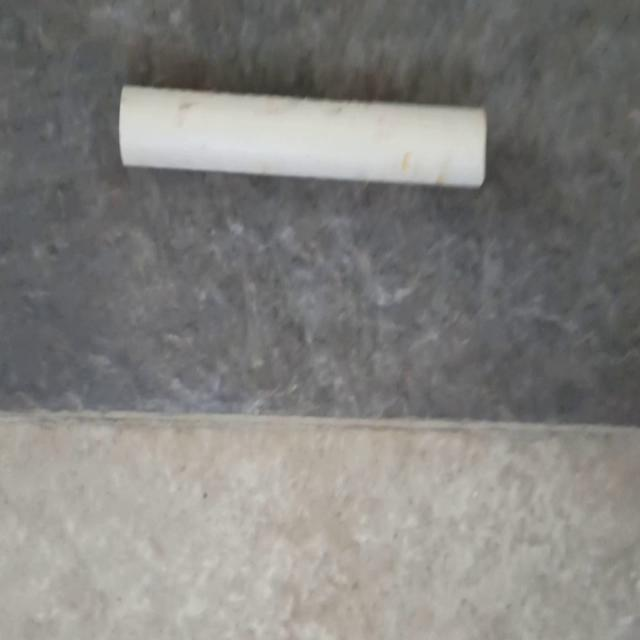Cube: (118, 80, 488, 190)
